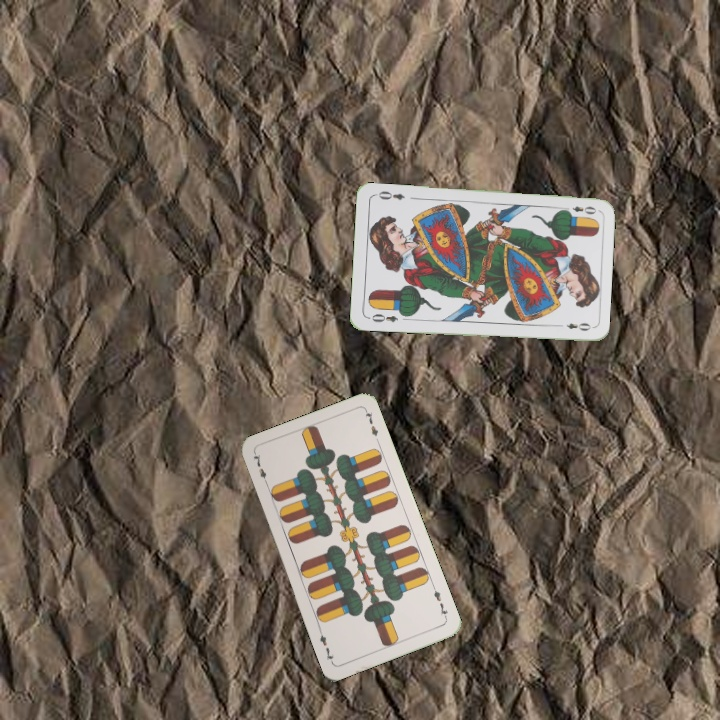E7: (249, 450, 271, 489), (429, 583, 450, 622)
EO: (559, 202, 599, 217), (364, 310, 400, 325)
